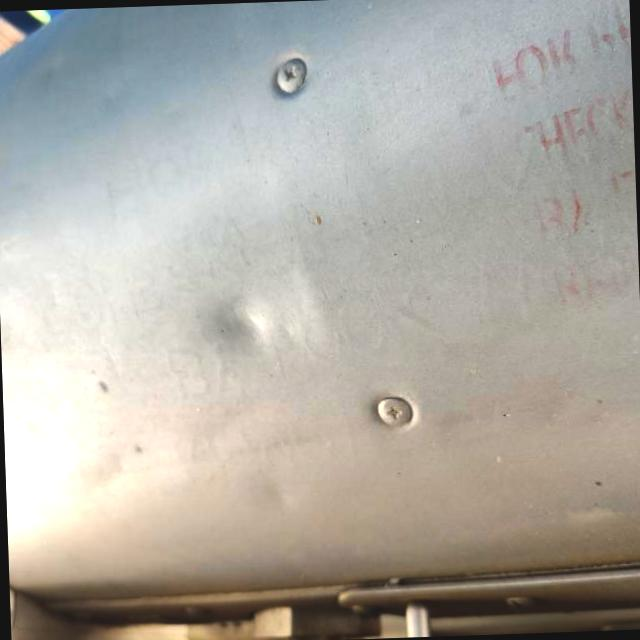dent: (190, 268, 288, 368)
